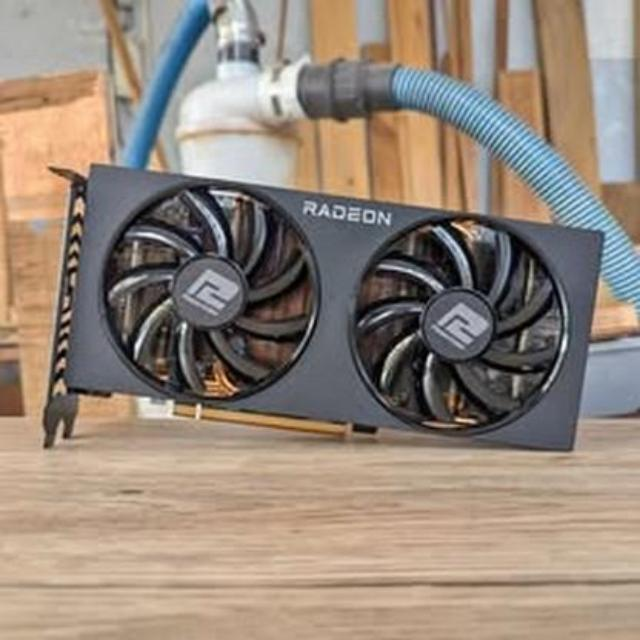GPU: (49, 152, 608, 462)
